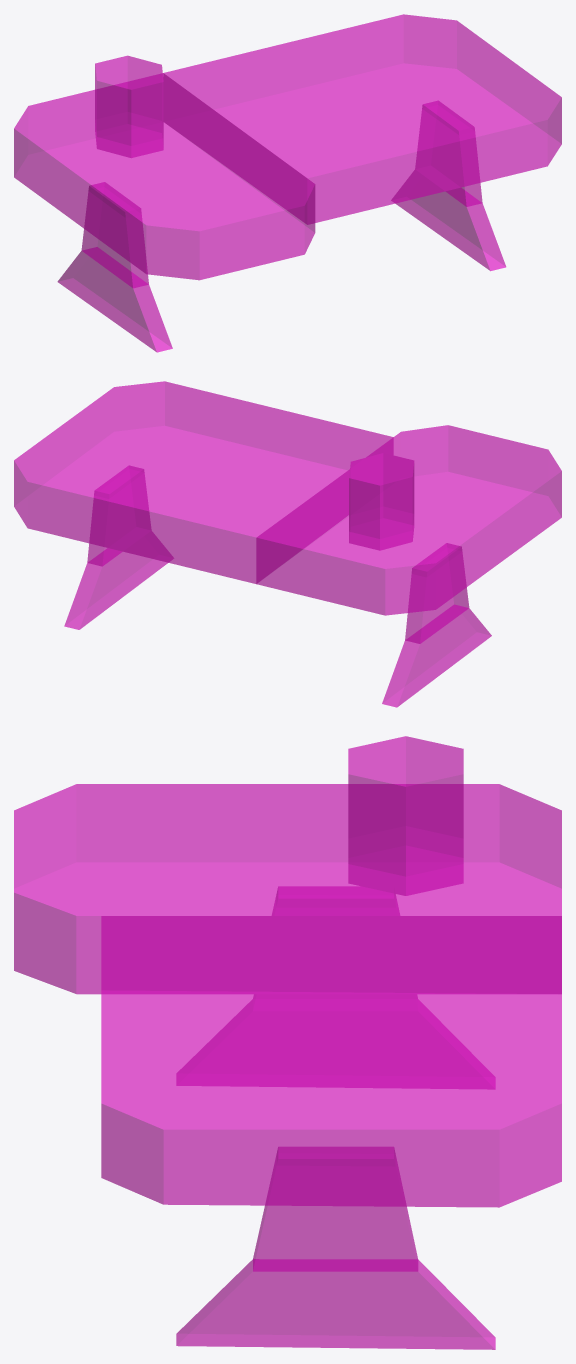
File: SM_Prop_Roulette_Table_01_Collision.fbx
3 renders of one model, top to bottom at view 1: azimuth 30°, elevation 25°; view 2: azimuth 150°, elevation 25°; view 3: azimuth 270°, elevation 25°, orthographic. The views are drawn at different scales.
Parts seen in each view (by area): view 1: SM_Prop_Roulette_Table_01_Collision; view 2: SM_Prop_Roulette_Table_01_Collision; view 3: SM_Prop_Roulette_Table_01_Collision.
Part boxes in pixels (x1=…): SM_Prop_Roulette_Table_01_Collision: x1=14, y1=14, x2=561, y2=352; SM_Prop_Roulette_Table_01_Collision: x1=14, y1=381, x2=561, y2=707; SM_Prop_Roulette_Table_01_Collision: x1=14, y1=736, x2=561, y2=1349.
Size of the model in its own units: 273 by 129 by 183.
